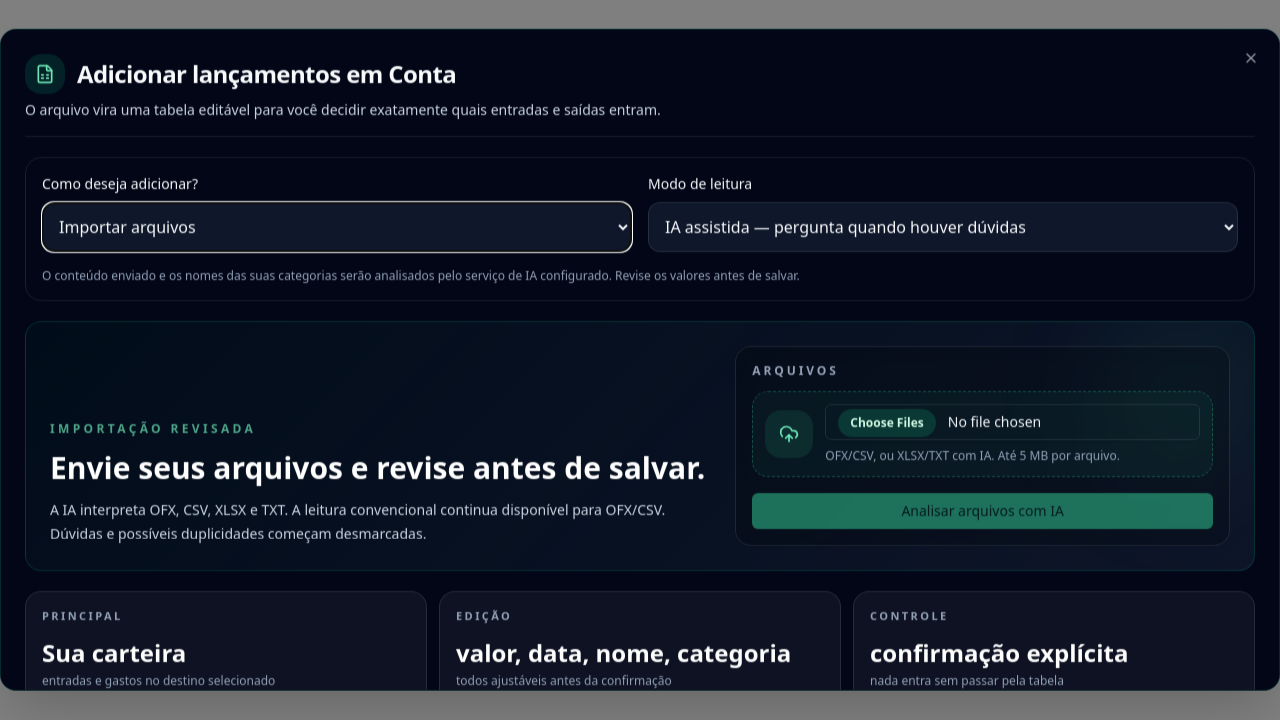
ImportStatementModal › keeps possible duplicates unselected
This screenshot has width=1280, height=720.
Select "Descrever em texto" in the dropdown labelled "Como deseja adicionar?" at point(337, 227), box left=42, top=202, right=632, bottom=252
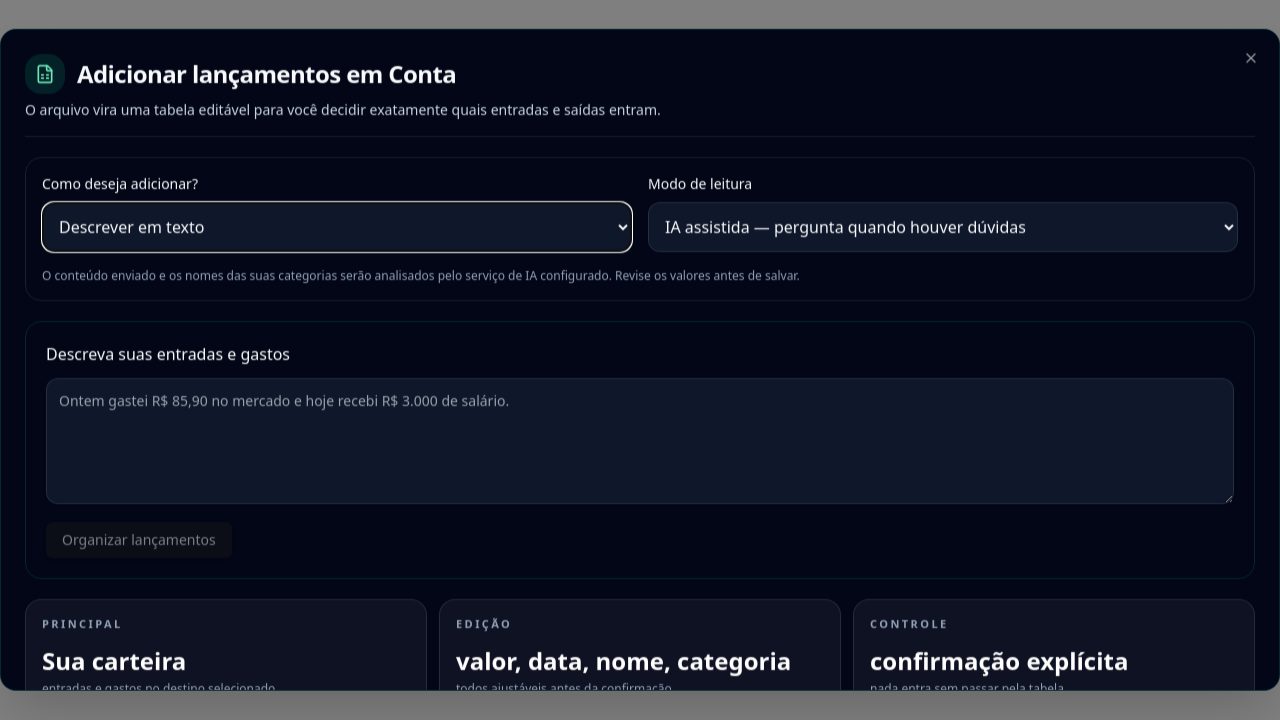
Replace the text in the text box labelled "Descreva suas entradas e gastos" with "Ontem gastei 85,90 no mercado." at point(640, 441), box left=46, top=378, right=1234, bottom=504
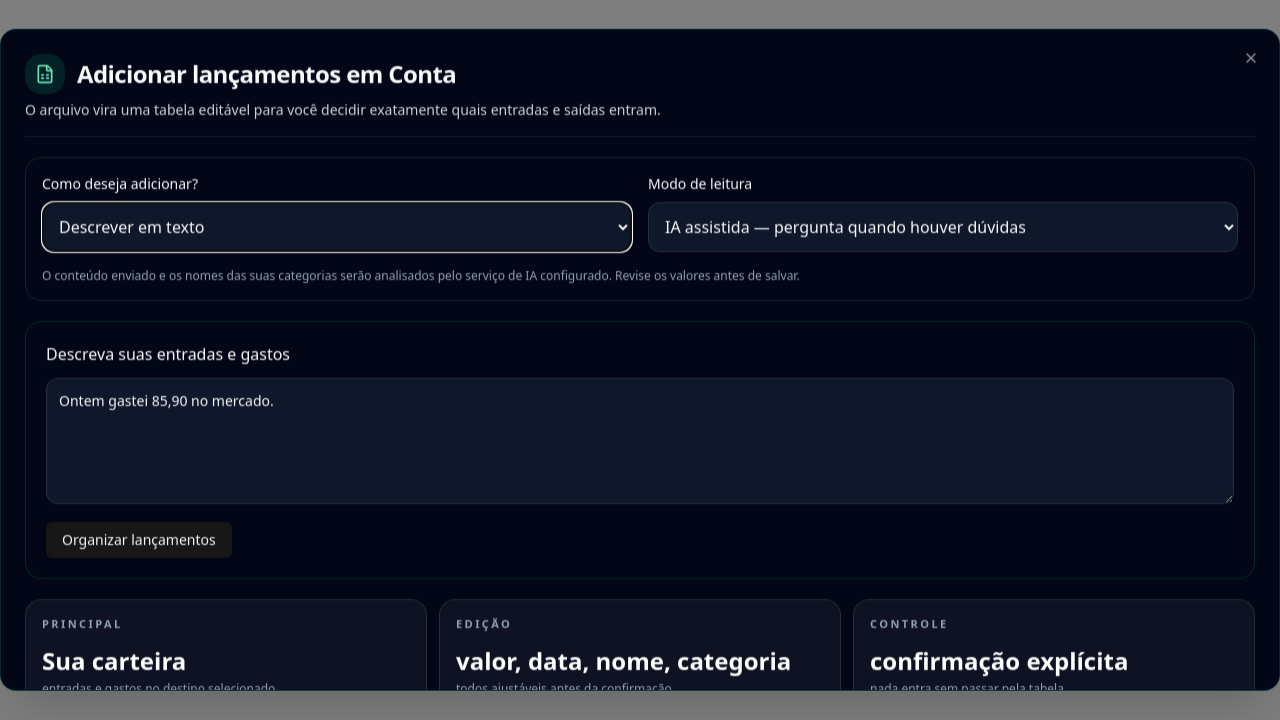
Click the button "Organizar lançamentos" at point(139, 540), box left=46, top=522, right=232, bottom=558
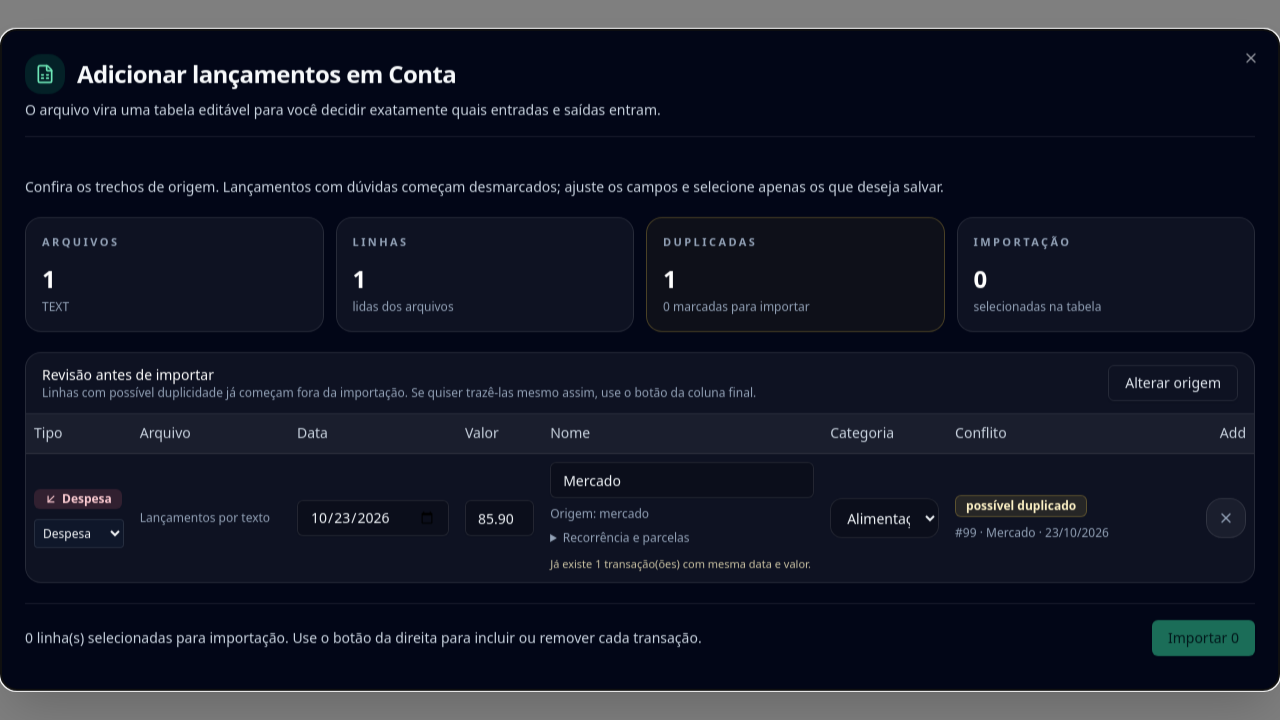
Now the button "Importar 0" is disabled, box left=1152, top=620, right=1255, bottom=656
